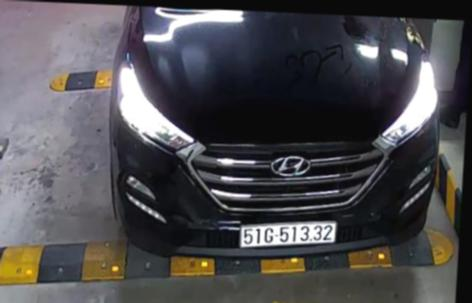License_Plate: (232, 212, 339, 251)
